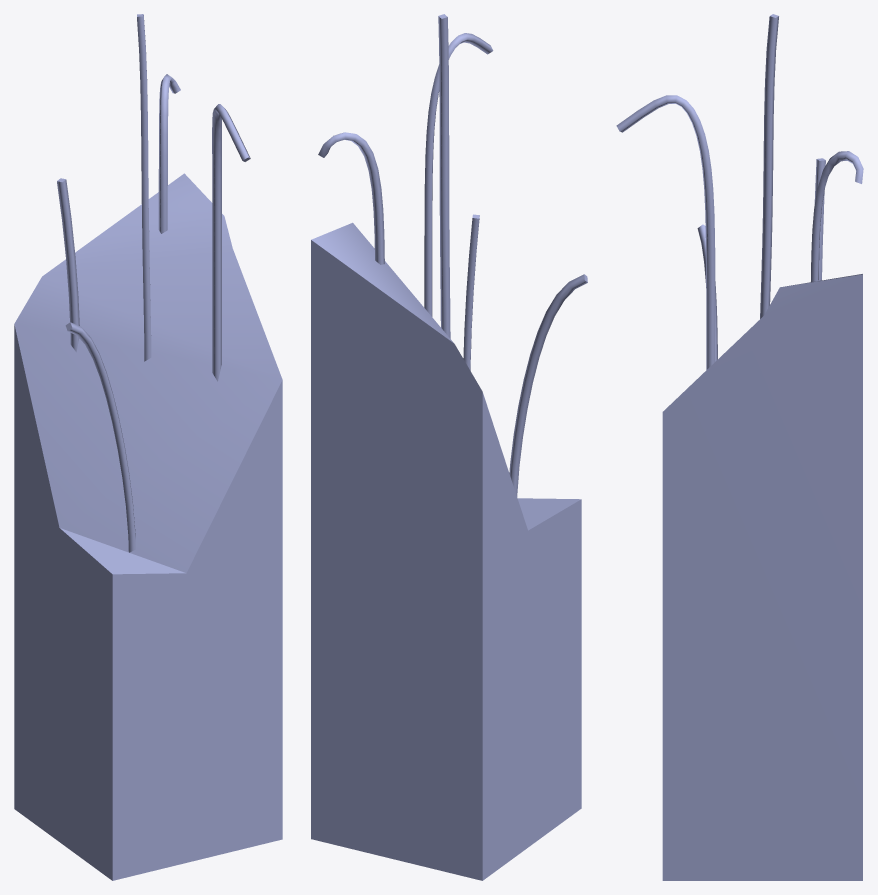
The model's file is ConcreteStack_05.fbx.
The picture shows the model from 3 angles, left to right: view 1: azimuth 30°, elevation 25°; view 2: azimuth 150°, elevation 25°; view 3: azimuth 270°, elevation 25°; orthographic projection. The views are drawn at different scales.
Parts seen in each view (by area): view 1: Concrete_Stack_05_LOD0; view 2: Concrete_Stack_05_LOD0; view 3: Concrete_Stack_05_LOD0.
Part boxes in pixels (left/top/right/bottom): Concrete_Stack_05_LOD0: left=14, top=14, right=282, bottom=880; Concrete_Stack_05_LOD0: left=311, top=14, right=587, bottom=880; Concrete_Stack_05_LOD0: left=616, top=14, right=863, bottom=880.
Size of what is drawn, in the model's own units: 0.4601 by 1.81 by 0.4938.
